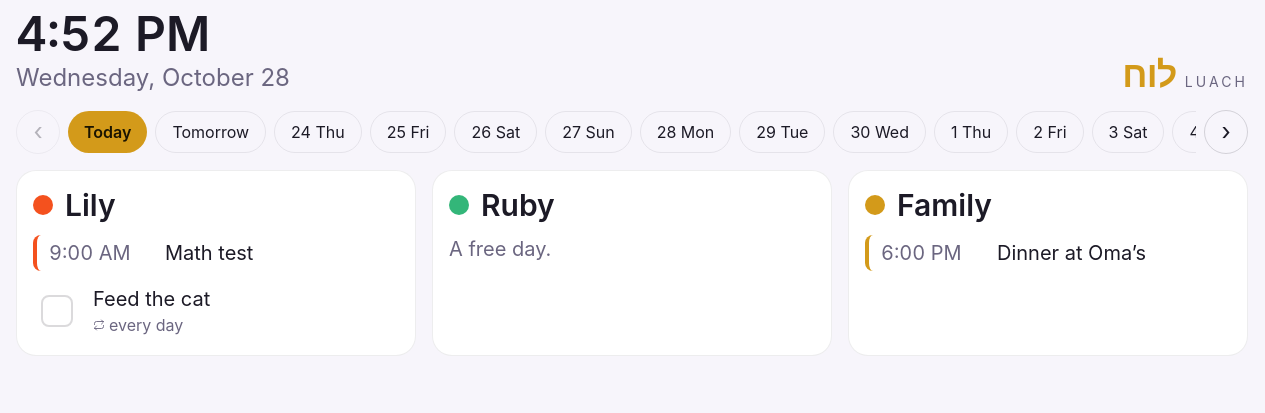
Test: a touch board › a tick that does not save springs back and says why
Click the checkbox named "Feed the cat" at {"x": 57, "y": 311}, box [33,283,81,339]
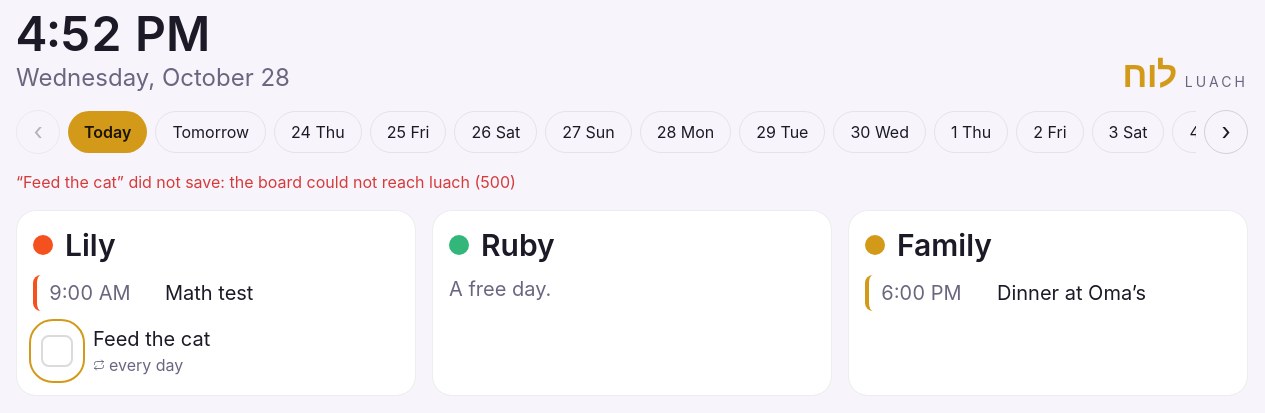
Now the message reads "“Feed the cat” did not save: the board could not reach luach (500)", box [16,172,516,192]
